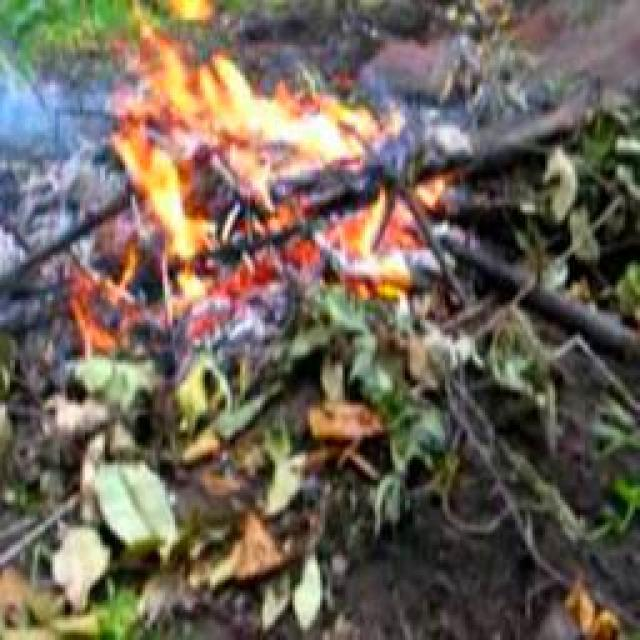Fire: (119, 9, 379, 203), (92, 129, 223, 276)
